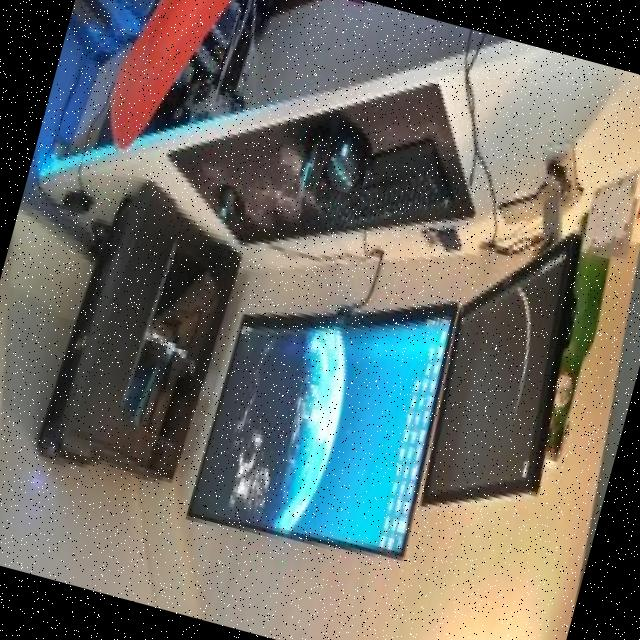Computer: (25, 162, 256, 508)
Monitor: (170, 246, 476, 600), (406, 169, 613, 527)
